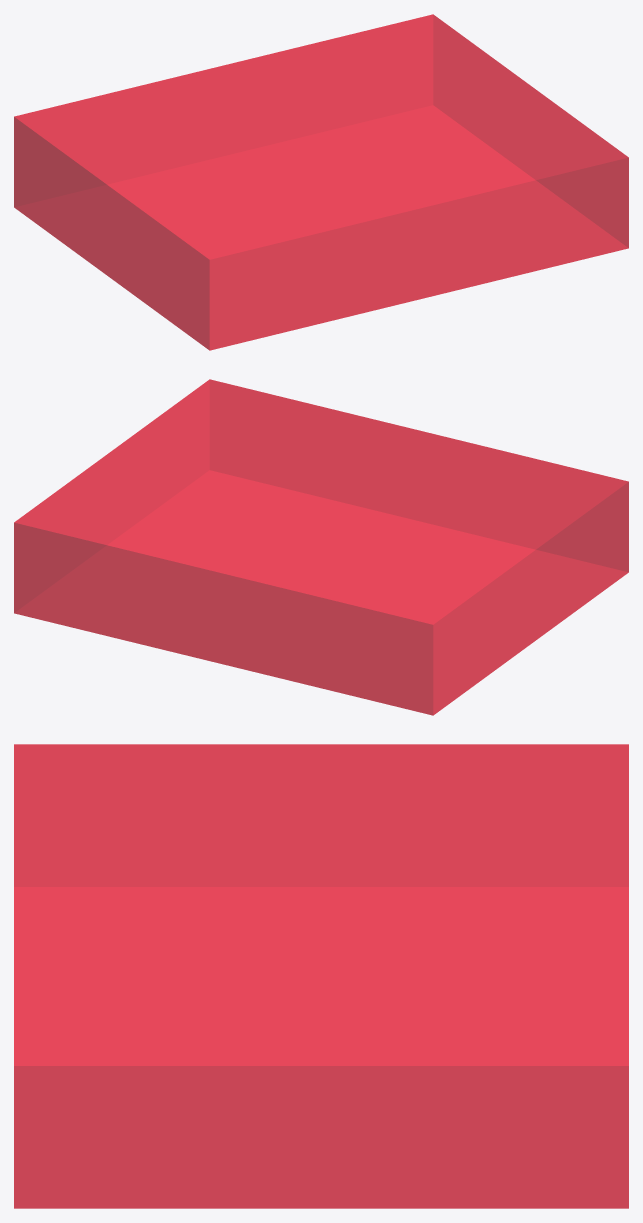
File: Box_ExpoNervi.obj
The picture shows the model from 3 angles, top to bottom: view 1: azimuth 30°, elevation 25°; view 2: azimuth 150°, elevation 25°; view 3: azimuth 270°, elevation 25°; orthographic projection. The views are drawn at different scales.
Size of the model in its own units: 134 by 27.75 by 108.
